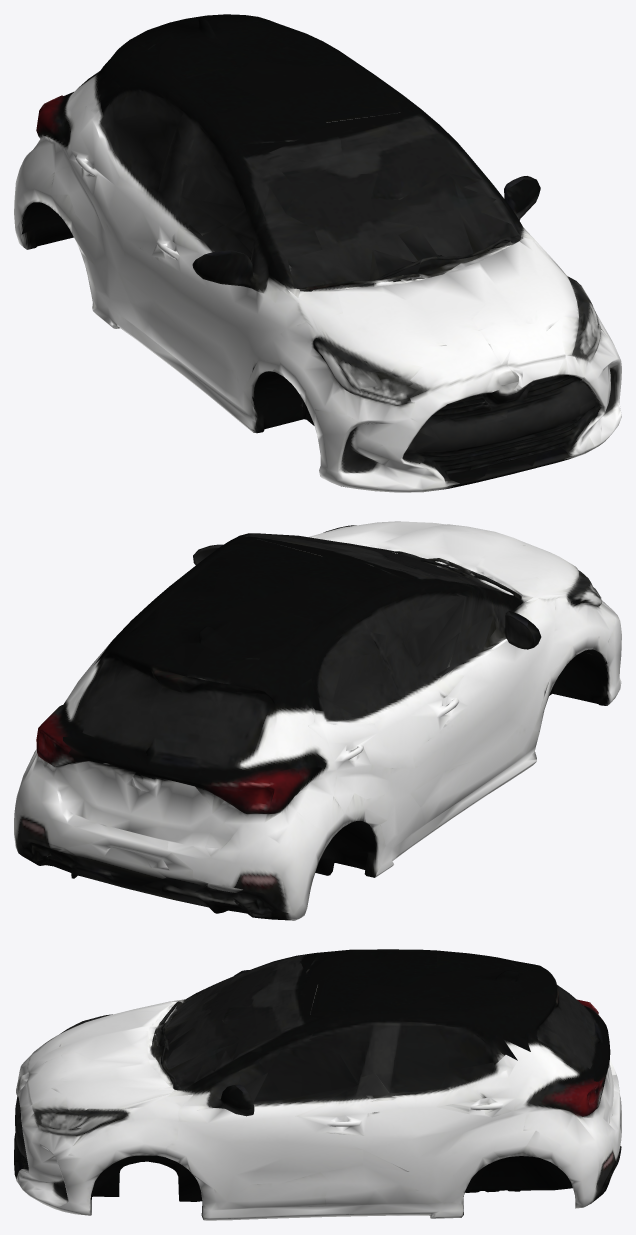
The model's file is kariya_abyss_20.obj.
3 renders of one model, top to bottom at view 1: azimuth 30°, elevation 25°; view 2: azimuth 150°, elevation 25°; view 3: azimuth 270°, elevation 25°, orthographic. The views are drawn at different scales.
Parts seen in each view (by area): view 1: body; view 2: body; view 3: body.
Boxes of the visible parts, x1,y1,x2,y2 form: body: [14, 14, 621, 492]; body: [14, 521, 621, 920]; body: [14, 949, 621, 1220].
Bounding box in the file's own units: 2 × 1.37 × 3.8.
